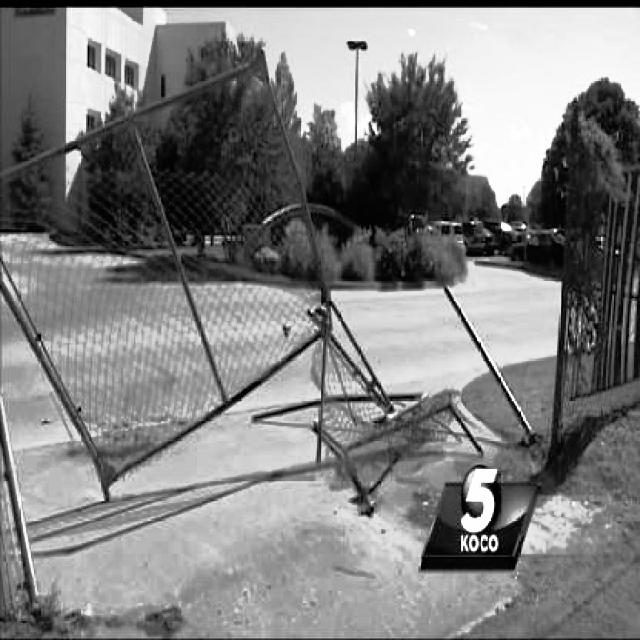anomaly-fence: (4, 31, 544, 480)
